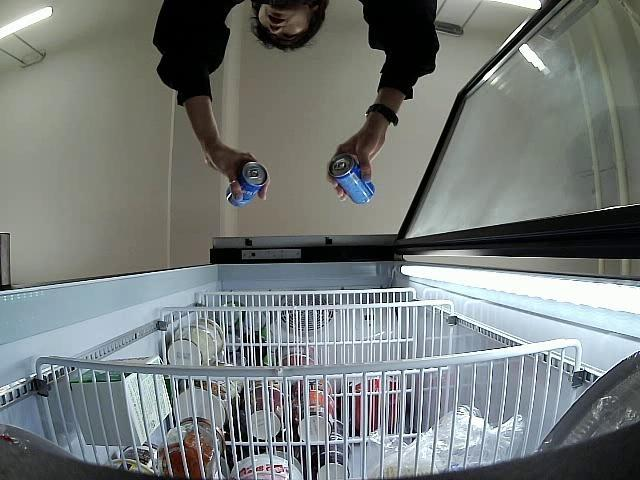15_letsbe: (330, 154, 375, 204), (228, 162, 268, 208)
